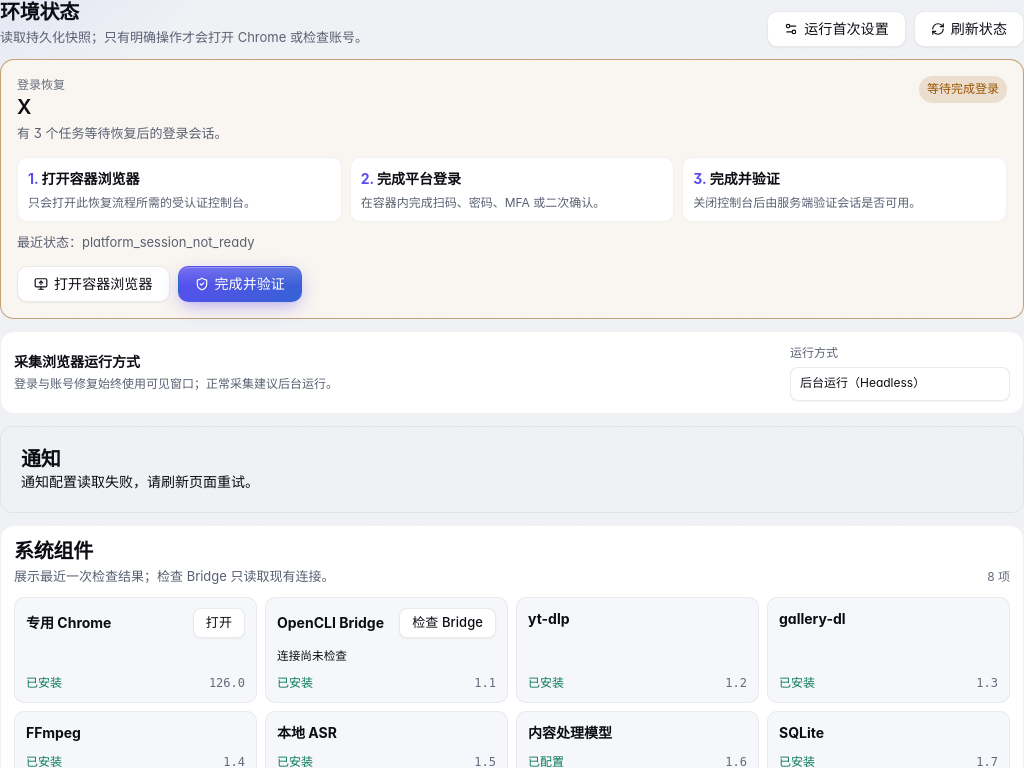
Test case: CollectionEnvironmentModule › shows recovered task count and refreshes the passive environment snapshot after successful verification
Expected: the element "登录恢复" is shown, [0, 59, 1023, 319]
Click the button "完成并验证" at {"x": 240, "y": 284}, box [178, 266, 302, 302]
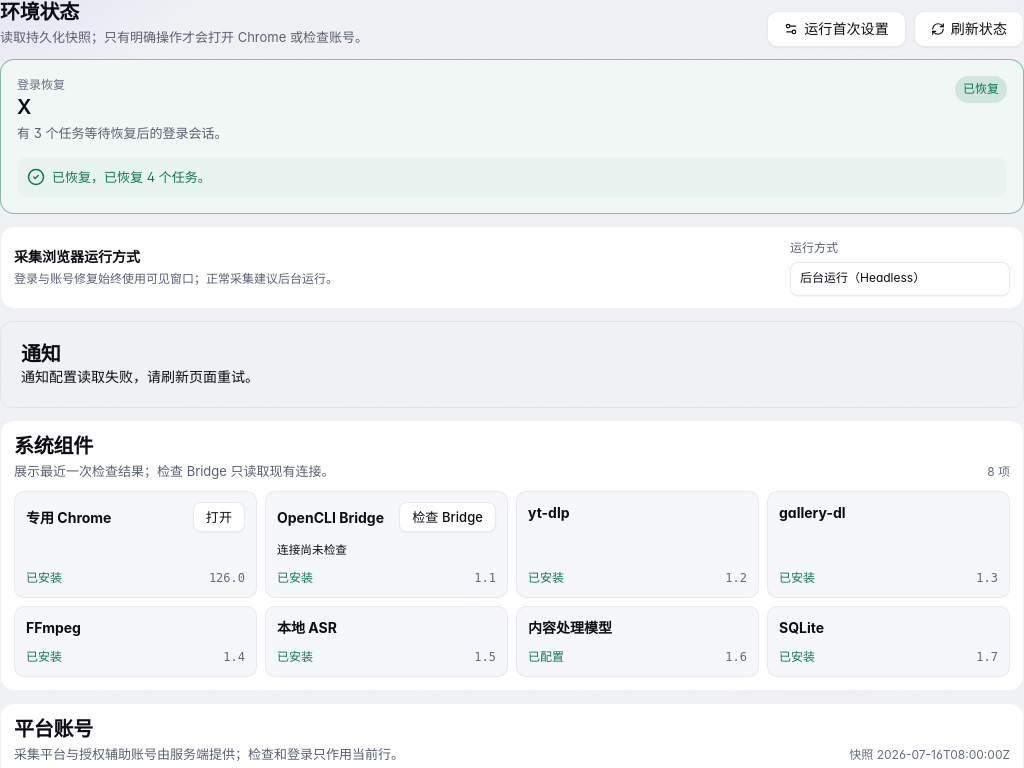
Expected: the text "已恢复，已恢复 4 个任务。" is shown, [17, 157, 1007, 197]
